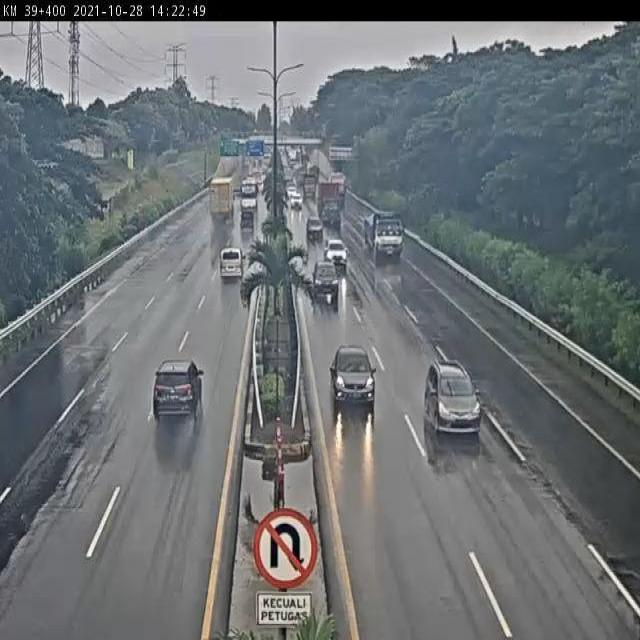car: (424, 360, 482, 437), (151, 359, 207, 425), (330, 344, 377, 413)
truck-l-: (364, 208, 408, 268)
